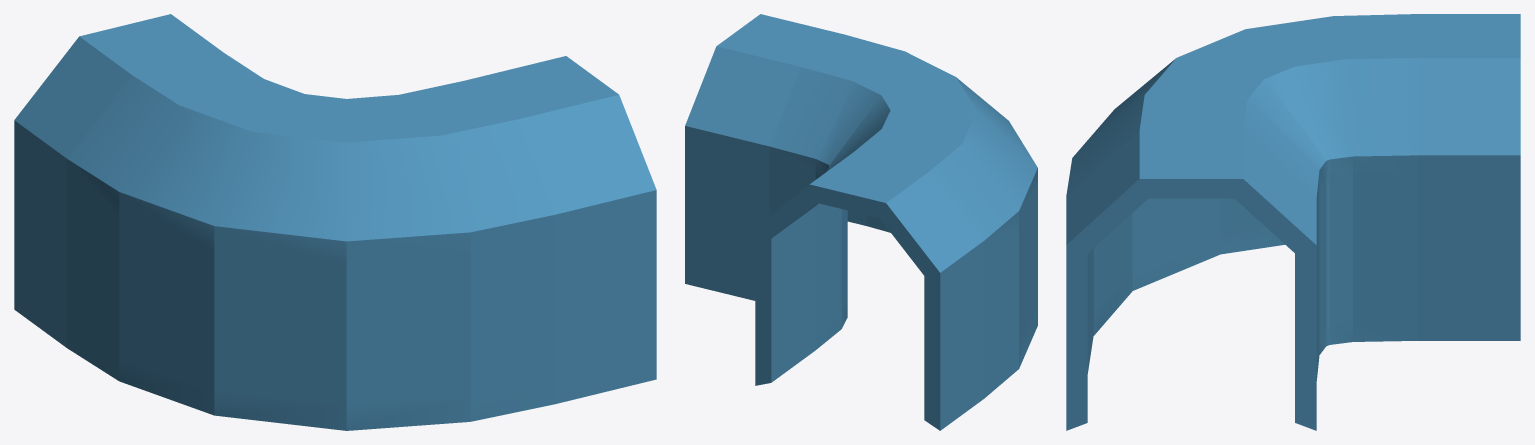
The model's file is HallwayCornerUVed1.fbx.
The picture shows the model from 3 angles, left to right: view 1: azimuth 30°, elevation 25°; view 2: azimuth 150°, elevation 25°; view 3: azimuth 270°, elevation 25°; orthographic projection. The views are drawn at different scales.
Parts seen in each view (by area): view 1: BasicCurvedHallwayF; view 2: BasicCurvedHallwayF; view 3: BasicCurvedHallwayF.
Boxes of the visible parts, x1=… form: BasicCurvedHallwayF: x1=14, y1=14, x2=656, y2=430; BasicCurvedHallwayF: x1=685, y1=14, x2=1037, y2=430; BasicCurvedHallwayF: x1=1066, y1=14, x2=1520, y2=430.
Size of the model in its own units: 1877 by 1125 by 1840.
